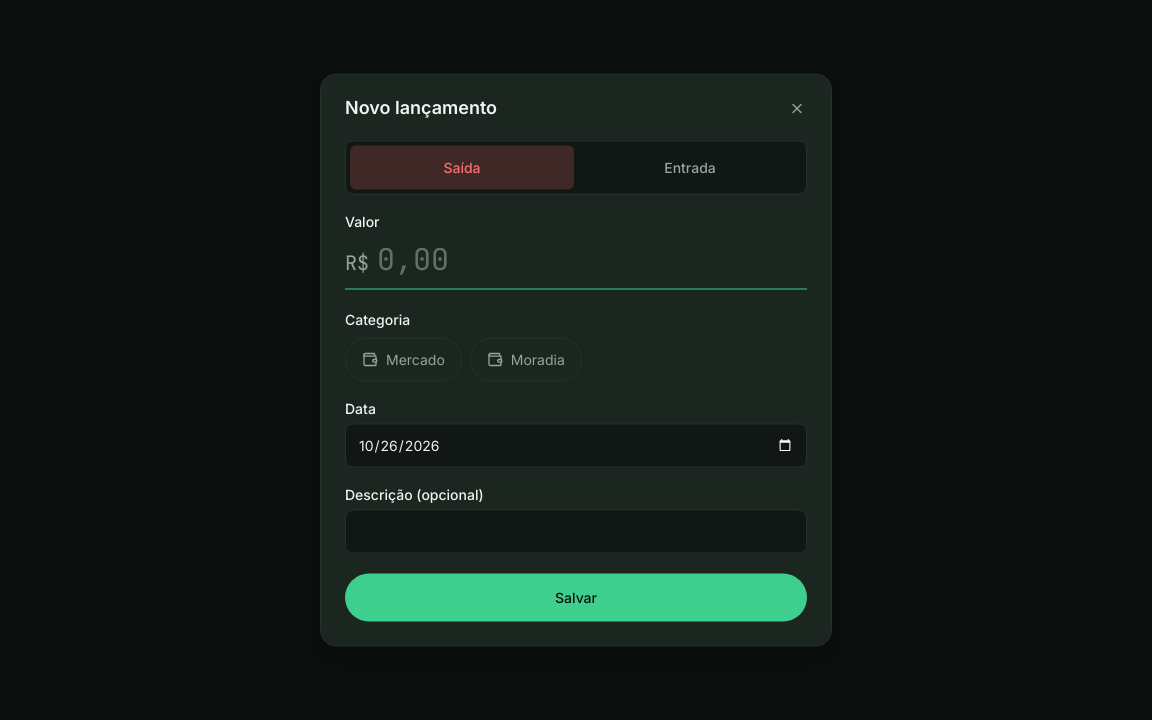
Test: TransactionSheet › trocar para Entrada troca os chips e limpa a categoria
Click the radio button labelled "Mercado".
click(403, 360)  # box [345, 338, 462, 382]
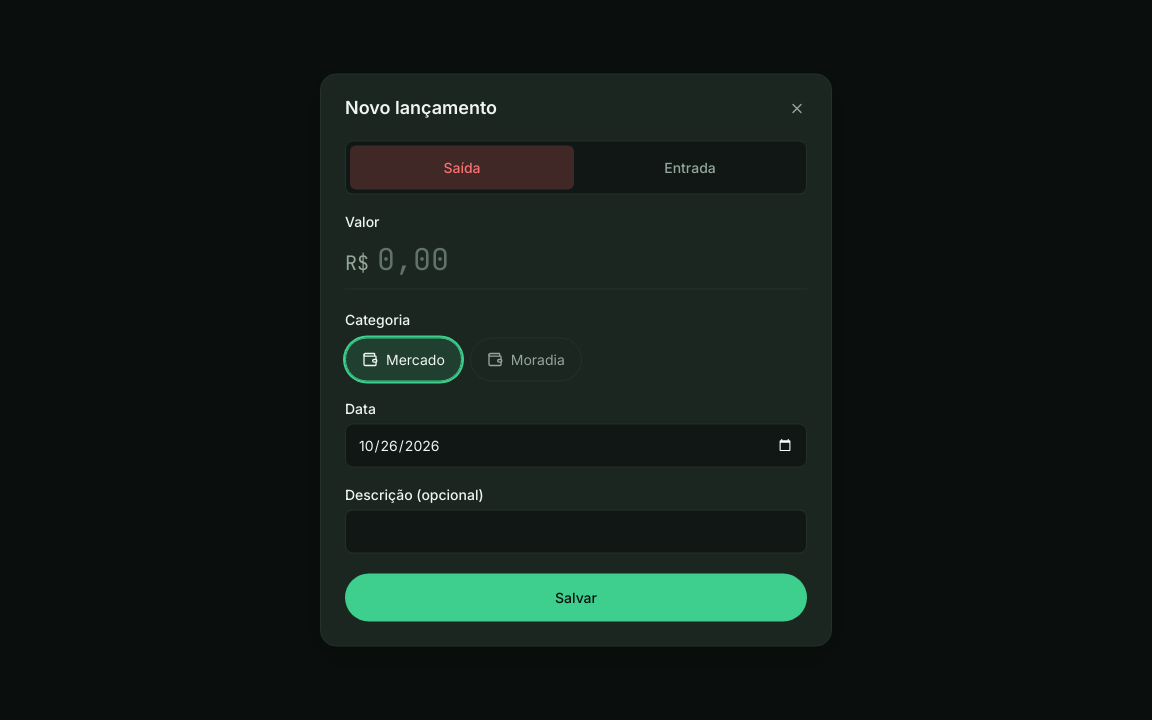
Now the radio button labelled "Mercado" is checked, box [345, 338, 462, 382]
Click the button "Entrada".
click(690, 168)  # box [578, 146, 802, 190]
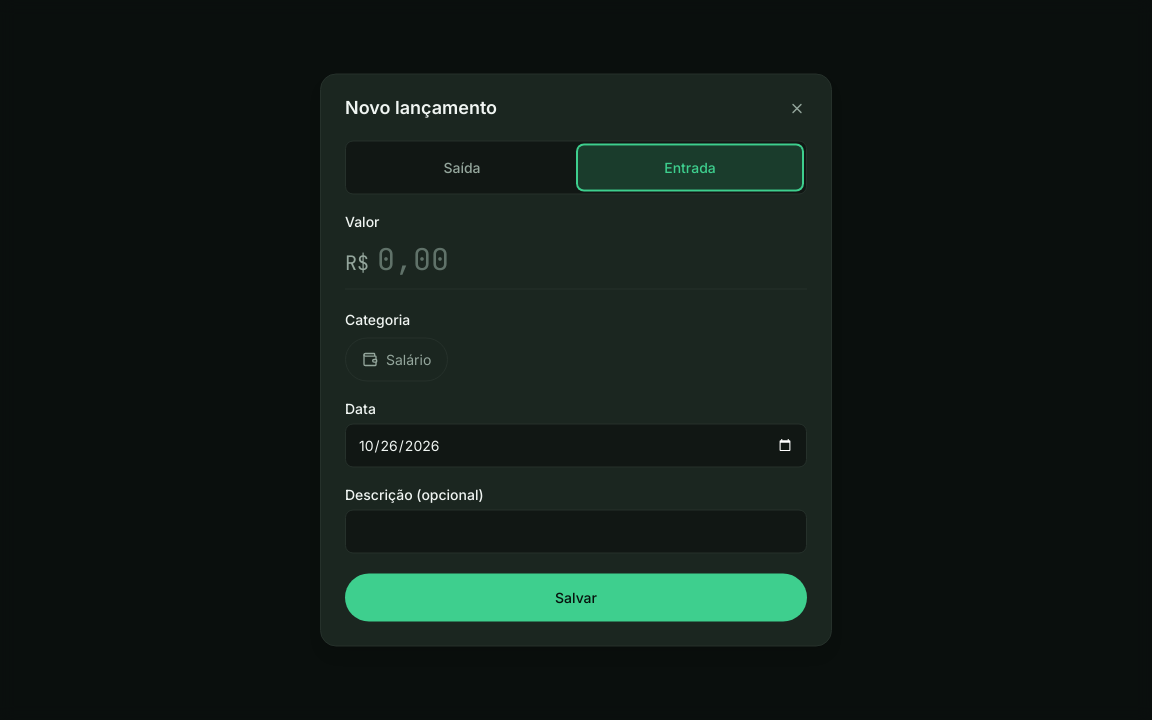
Now the radio button labelled "Salário" is not checked, box [345, 338, 448, 382]
Now the radio button labelled "Mercado" is gone
Type "10" into the field labelled "Valor".
click(592, 258); type("10")  # box [377, 236, 807, 280]
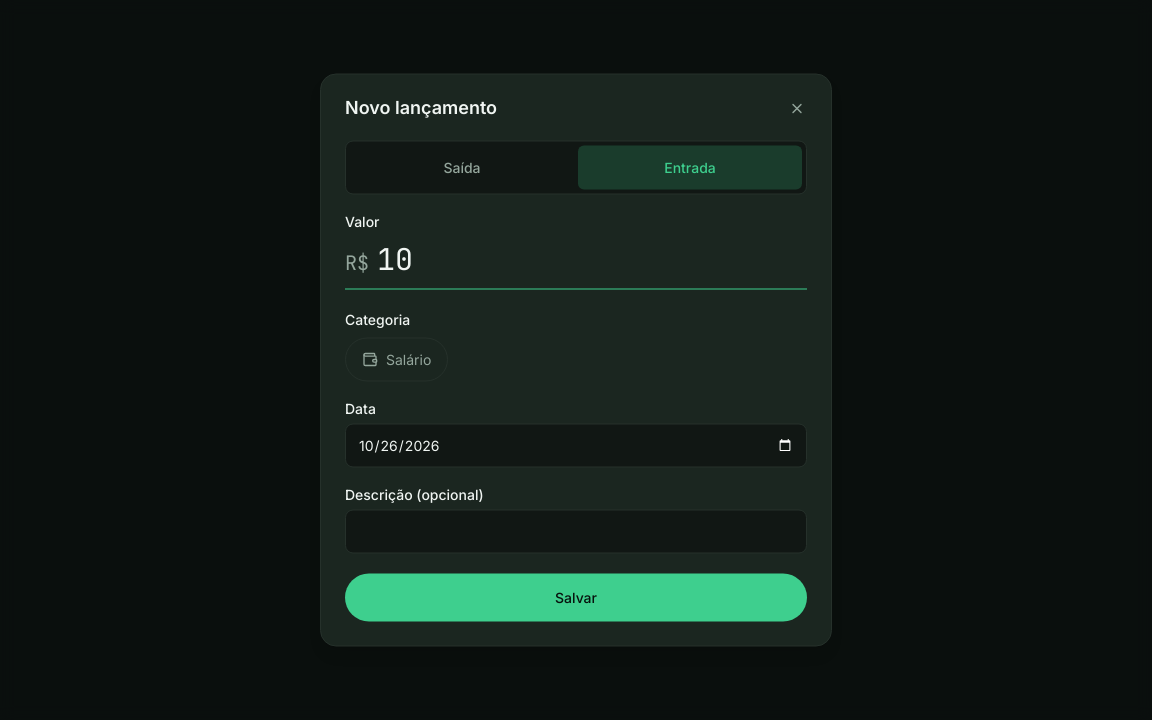
Click the button "Salvar".
click(576, 598)  # box [345, 574, 807, 622]
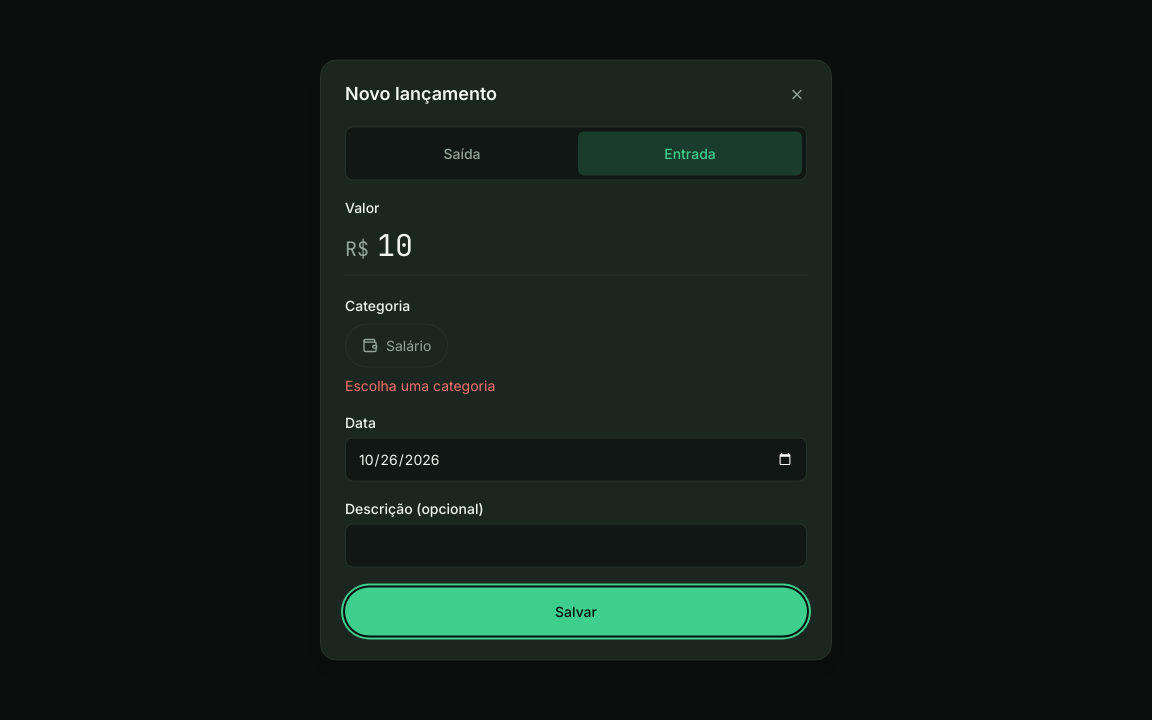
Now the text "Escolha uma categoria" is shown, box [345, 376, 495, 394]
